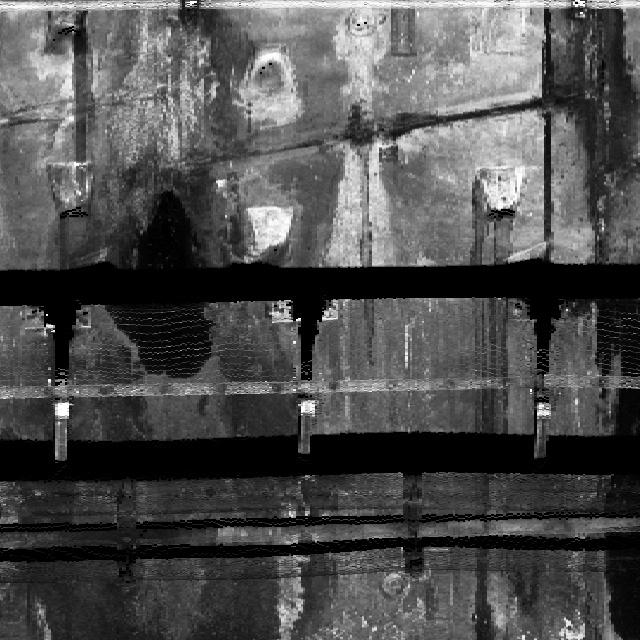leakage: (14, 157, 331, 635), (552, 8, 639, 255), (584, 292, 639, 639), (473, 202, 505, 639), (394, 468, 427, 578)
